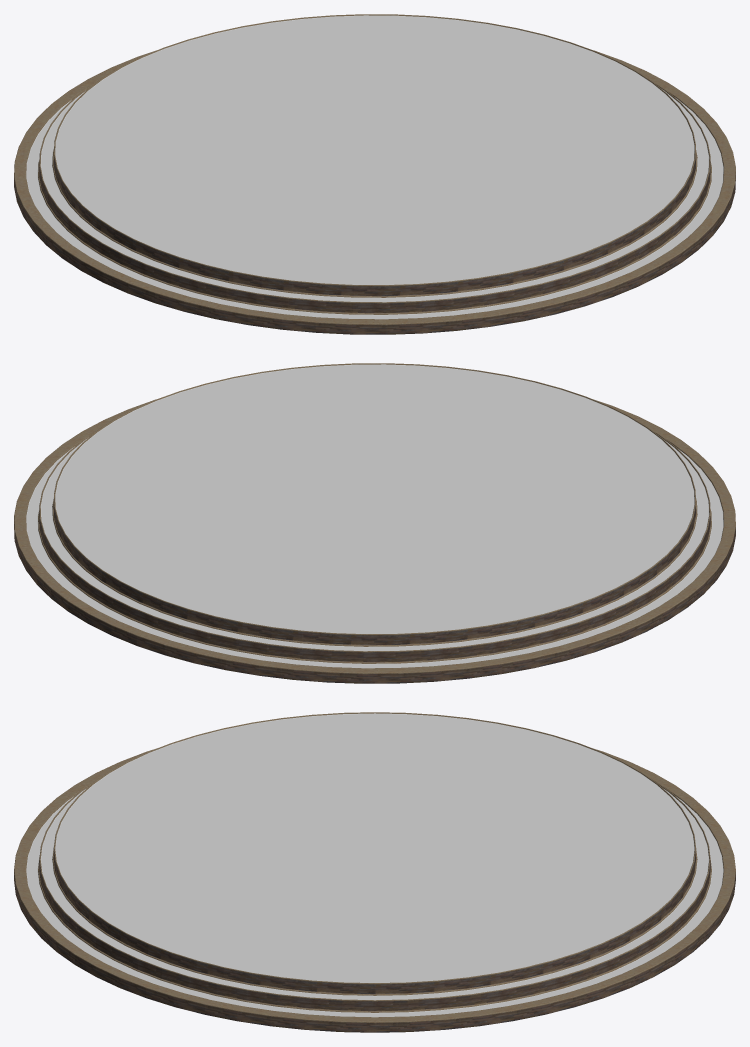
Rendered from garden_8.fbx.
3 renders of one model, top to bottom at view 1: azimuth 30°, elevation 25°; view 2: azimuth 150°, elevation 25°; view 3: azimuth 270°, elevation 25°, orthographic.
Visible parts, largest first — view 1: Cylinder.001; view 2: Cylinder.001; view 3: Cylinder.001.
Boxes of the visible parts, x1,y1,x2,y2 form: Cylinder.001: [14, 14, 735, 334]; Cylinder.001: [14, 363, 735, 683]; Cylinder.001: [14, 712, 735, 1032].
Size of the model in its own units: 2994 by 150 by 2994.
